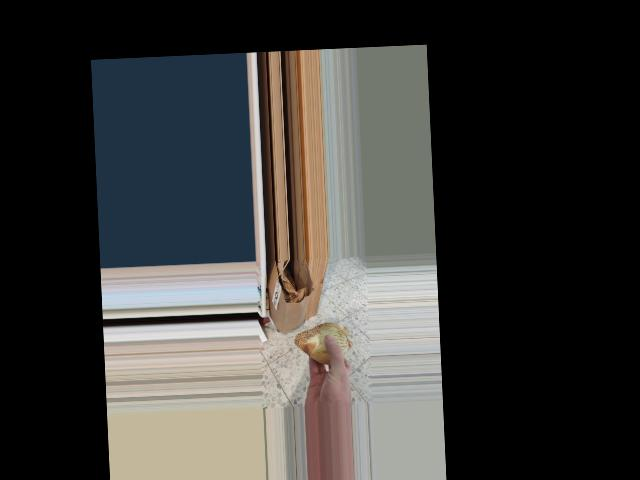onion: (291, 314, 351, 370)
